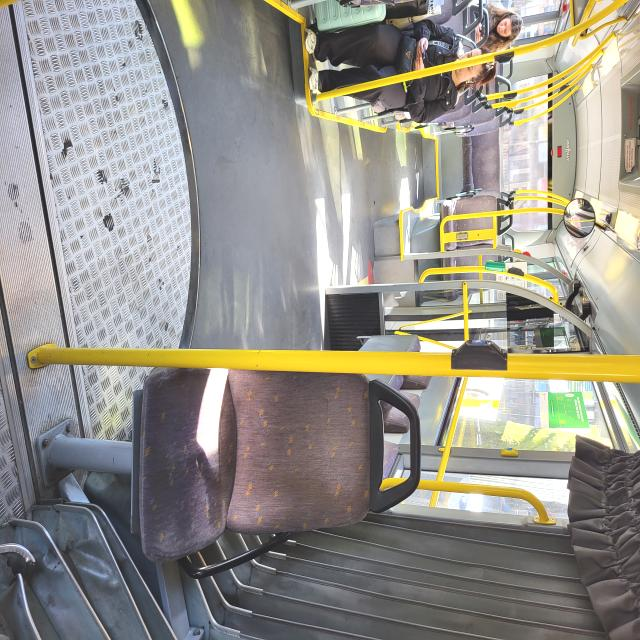asiento-libre: (436, 291, 581, 640), (440, 293, 484, 369), (262, 181, 302, 238), (307, 169, 325, 264), (235, 202, 253, 292), (239, 178, 257, 265), (243, 171, 263, 248), (160, 209, 186, 266), (411, 292, 424, 378), (163, 201, 196, 233), (351, 169, 360, 264), (490, 321, 520, 343), (302, 172, 311, 243), (204, 170, 219, 192), (335, 167, 348, 192)
